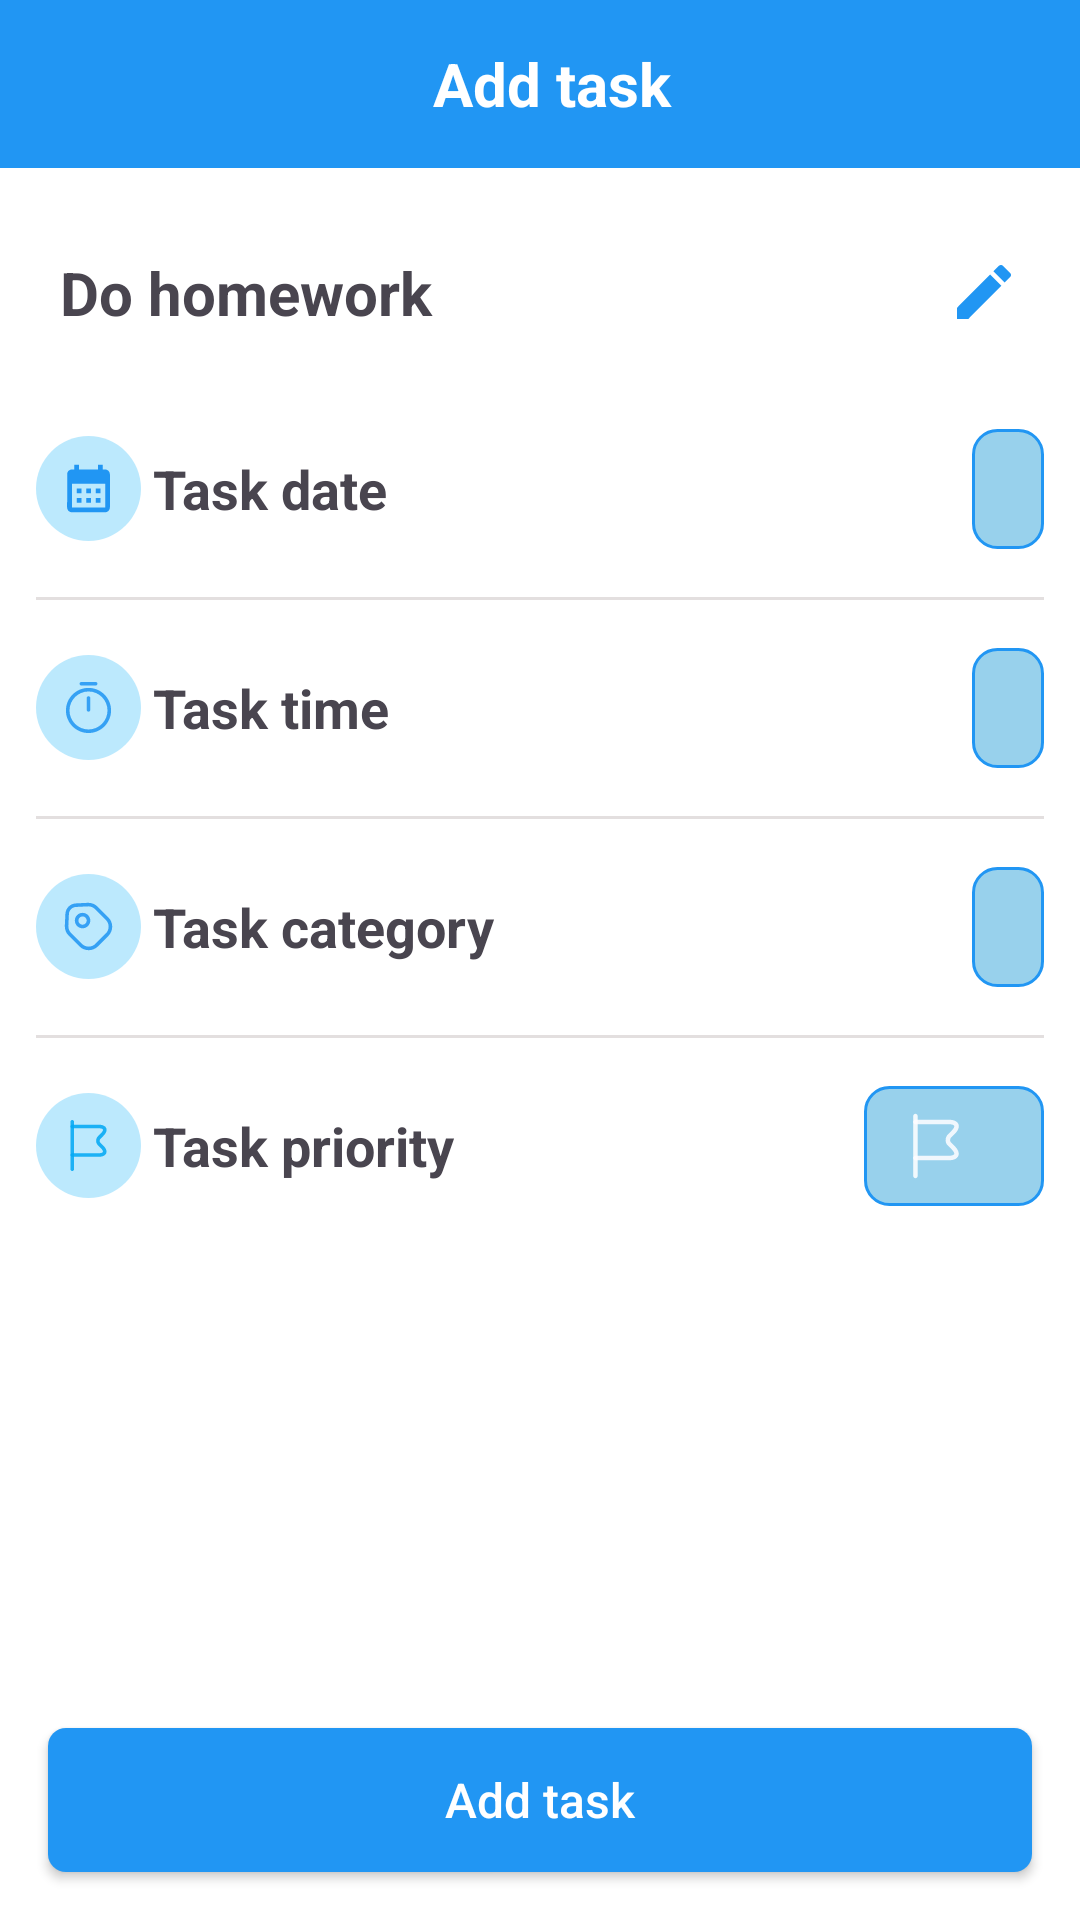

Point at icon controls on the screen. Image size 1080 x 1920, points as (x,y).
calendar: (88,488)
flag: (88,1145)
tag: (88,926)
timer: (88,707)
